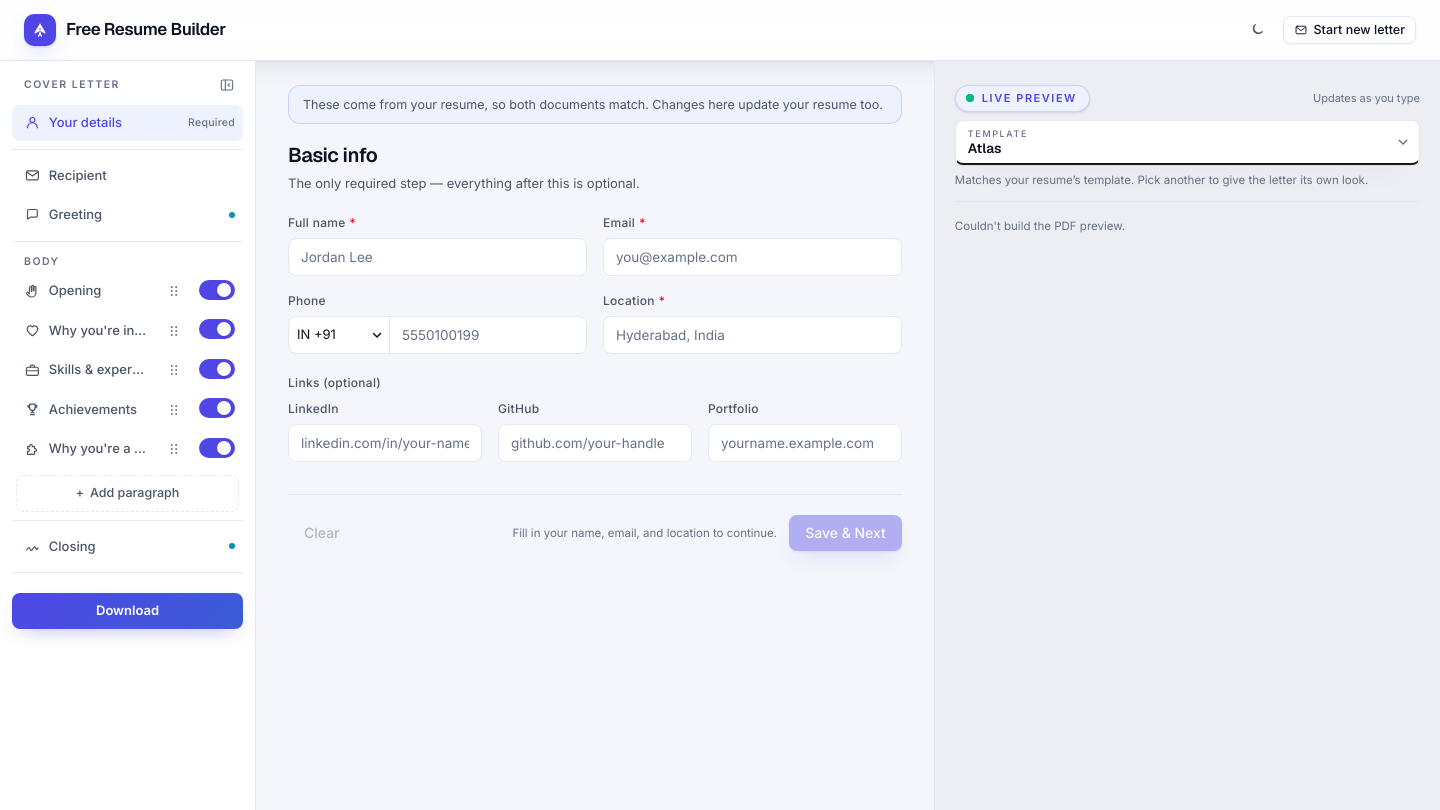
Test case: CoverLetterShell › saves the resume too when Your details is completed here
The image size is (1440, 810).
Expected: the text "These come from your resume" is shown, left=303, top=97, right=883, bottom=112
In the field labelled "Full name": (437, 257) left=288, top=238, right=587, bottom=276, type "Ada Lovelace"
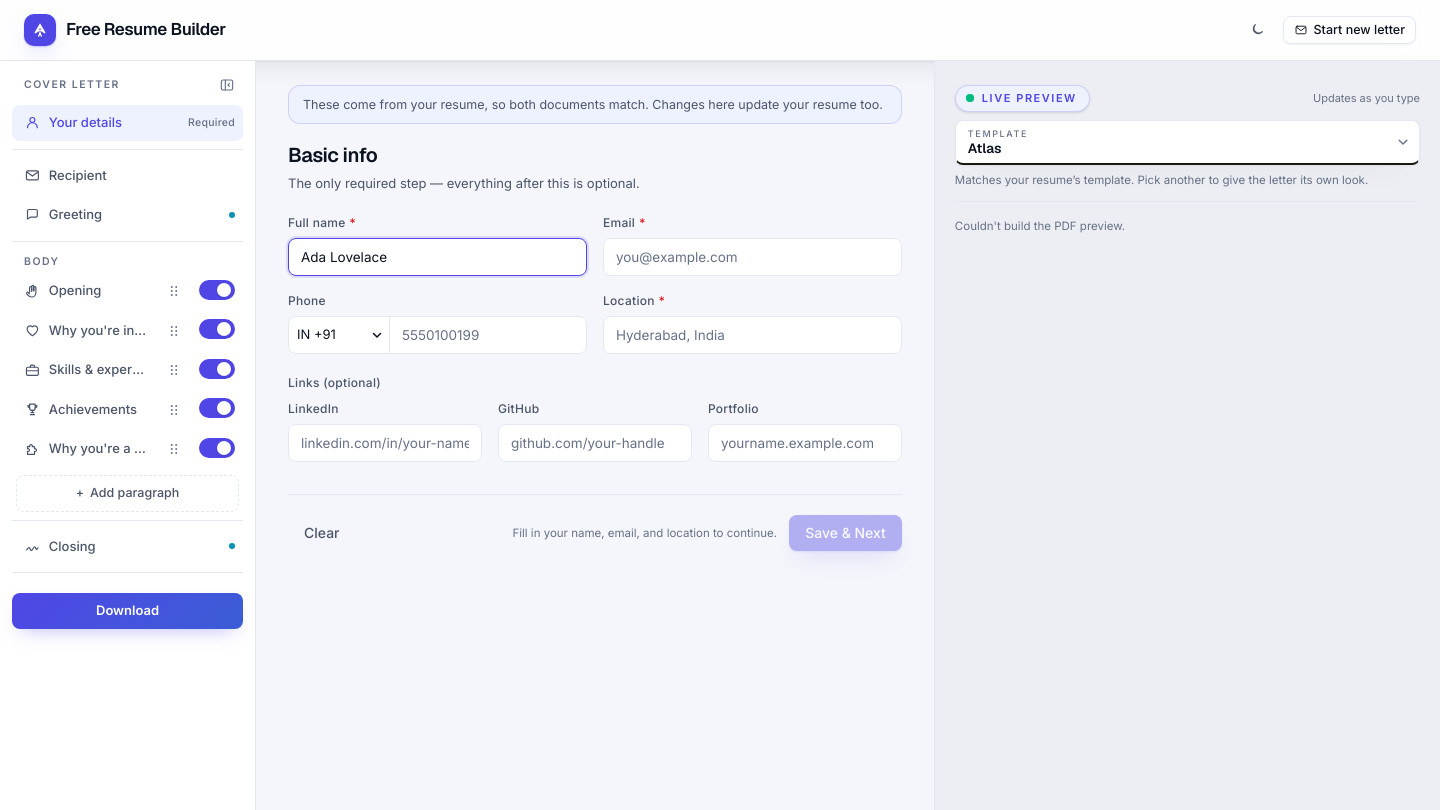
In the field labelled "Email": (752, 257) left=603, top=238, right=902, bottom=276, type "ada@example.com"
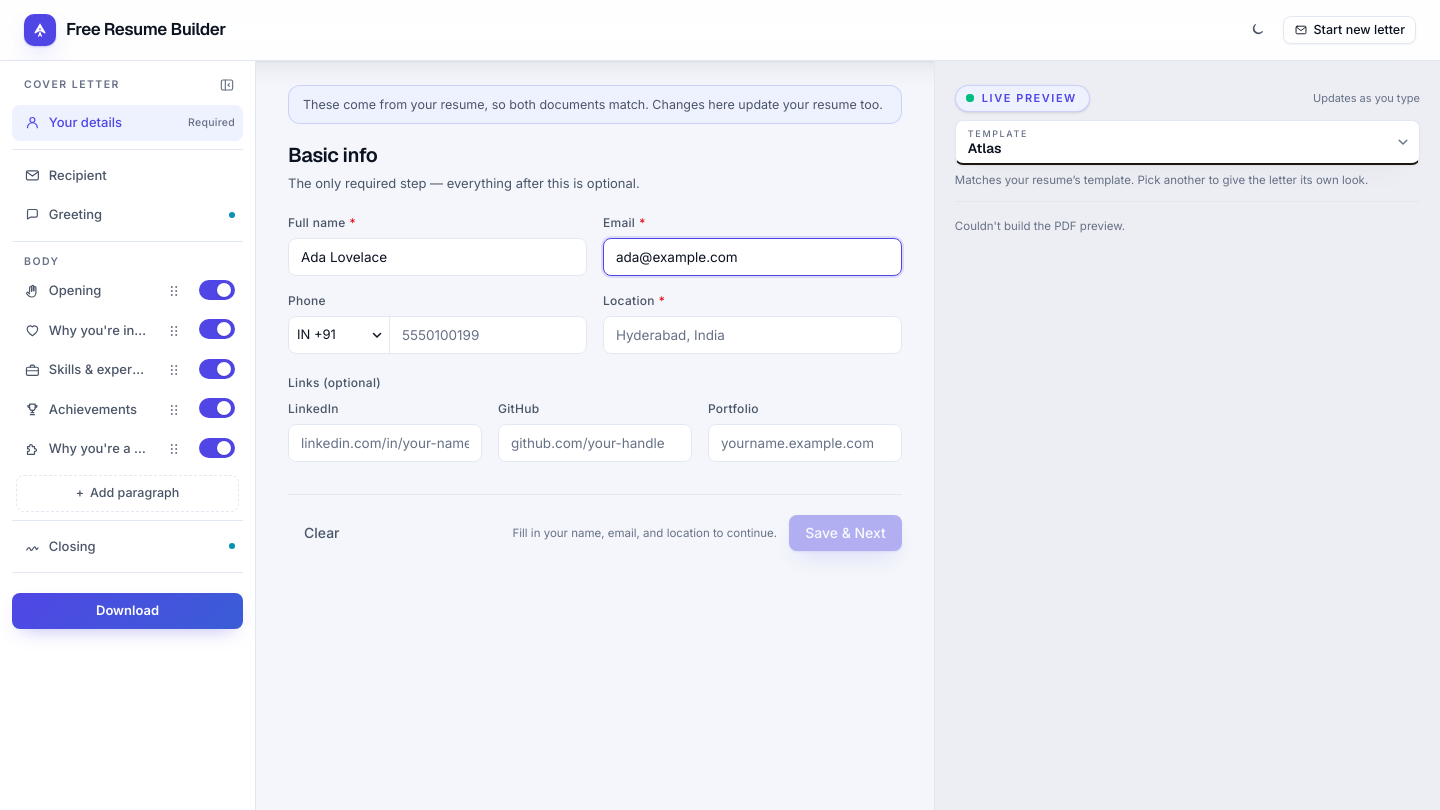
In the field labelled "Location": (752, 335) left=603, top=316, right=902, bottom=354, type "London"
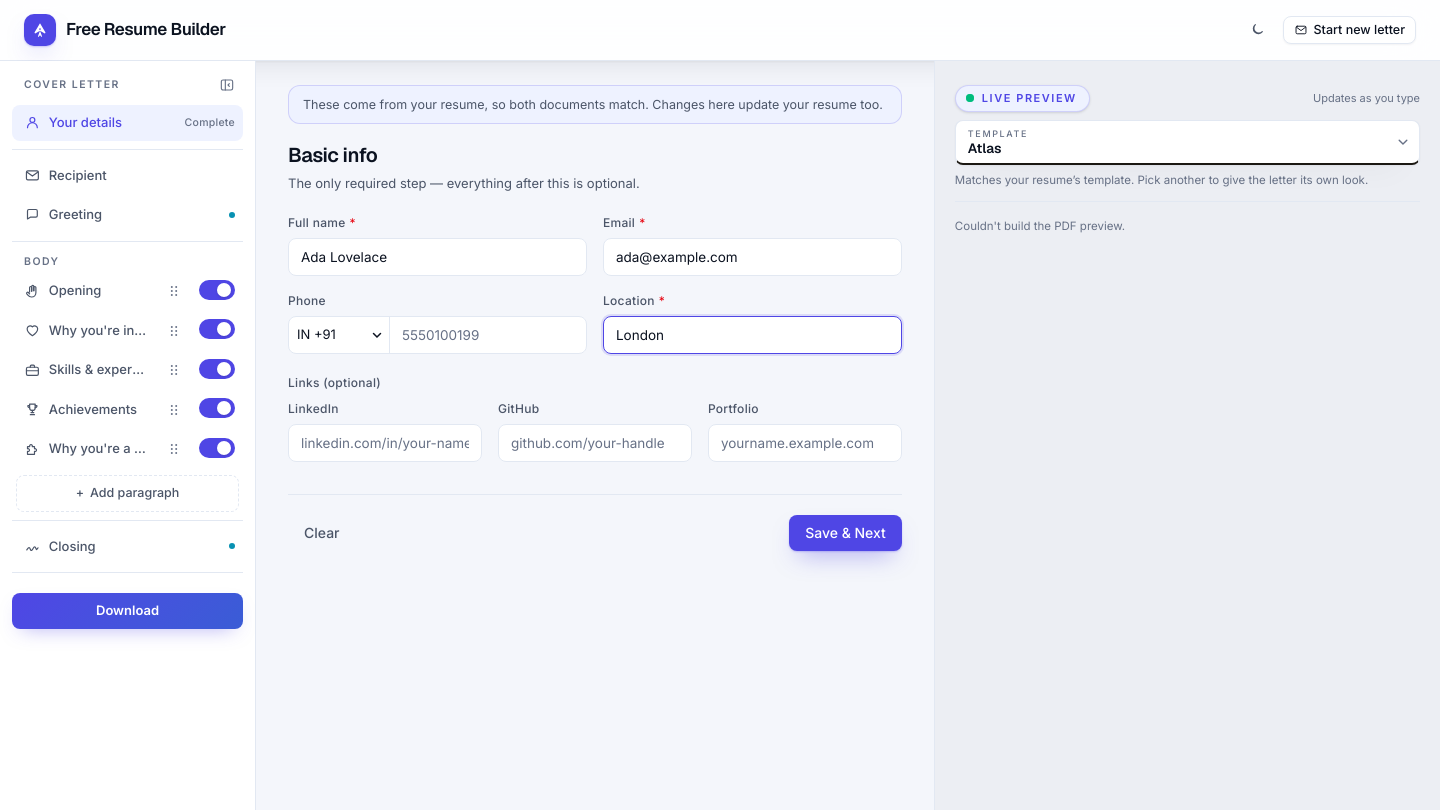
Click the button "Save & Next": click(845, 533) left=789, top=515, right=902, bottom=551
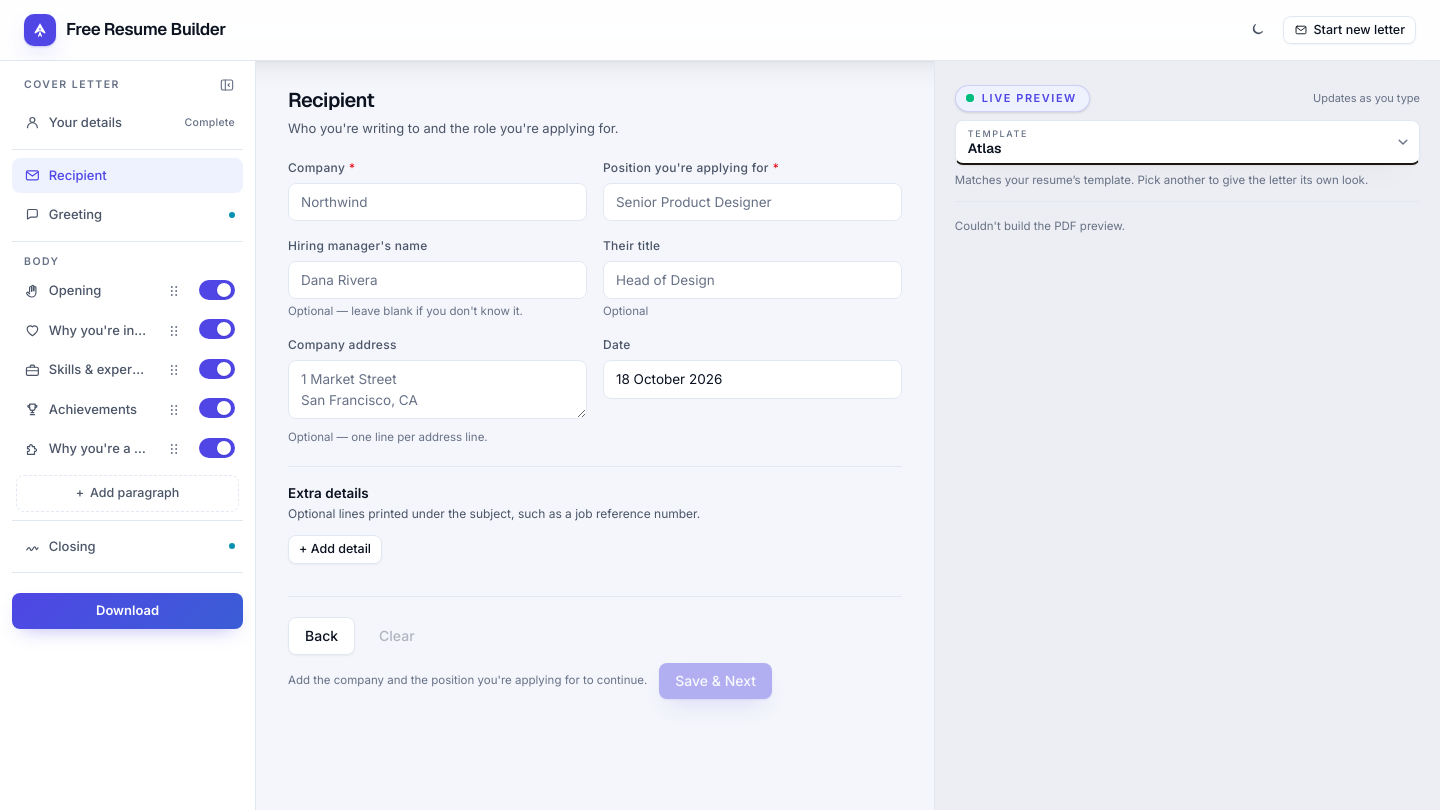
Now the heading "Recipient" is shown, box left=288, top=87, right=374, bottom=113
